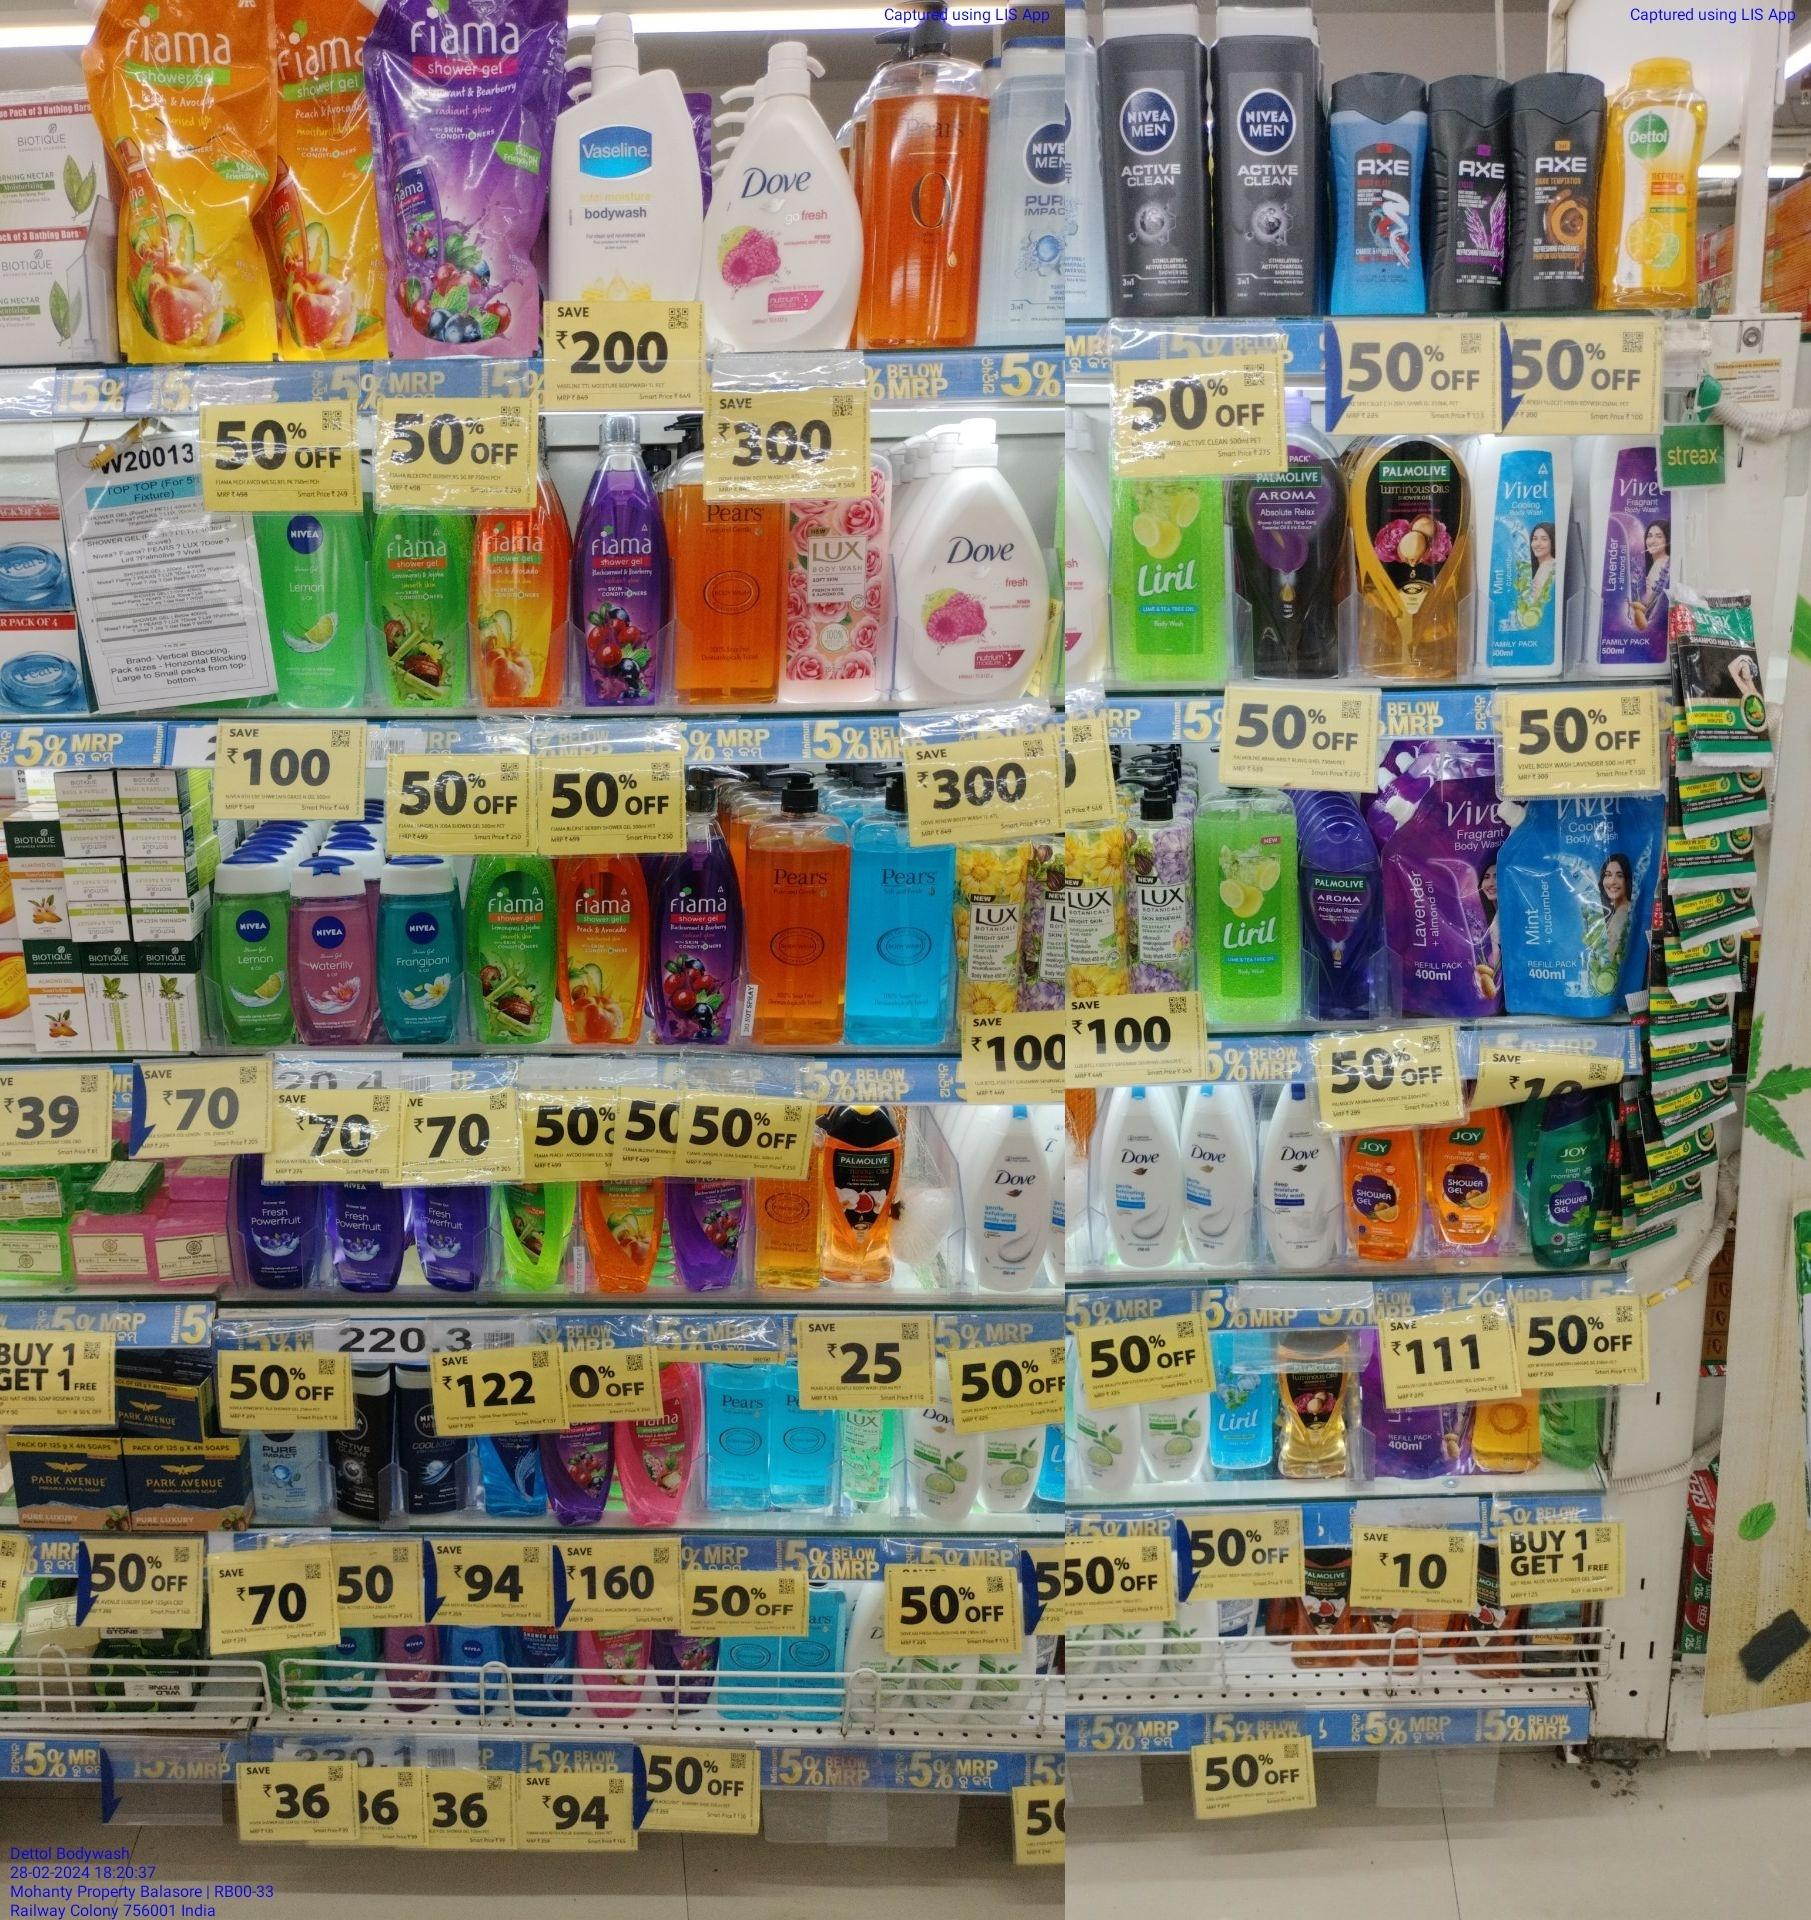Dettol_Bodywash_Refresh: (1605, 51, 1707, 315)
Dove_Deep_Moisture_Body_Wash_250ML: (1265, 1084, 1333, 1278)
Dove_Gentle_Exfoliating_Body_Wash_250ML: (977, 1106, 1048, 1299), (1108, 1081, 1181, 1268), (1185, 1084, 1249, 1266)
Dove_Refreshing_Body_Wash_250ML: (905, 1387, 980, 1525), (1074, 1404, 1139, 1494), (1142, 1397, 1207, 1486)
Joy_Shower_Gel_Mandarin_and_Lemongrass_250ML: (1431, 1101, 1506, 1249), (1348, 1132, 1423, 1263)
Joy_Shower_Gel_Mint_and_Eucalyptus_250ML: (1534, 1091, 1600, 1275)
Nivea_Shower_Gel_Frangipani_and_Oil_250ML: (381, 858, 470, 1054)
Nivea_Shower_Gel_Lemon_and_Oil_250ML: (213, 854, 288, 1050)
Nivea_Shower_Gel_Waterlily_and_Oil_250ML: (291, 854, 376, 1052)
Palmolive_Luminous_Oils_Invigorating_Macadamia_Oil_With_Peony_250ML: (1278, 1329, 1351, 1484)
Palmolive_Luminous_Oils_With_White_Orchid_Shower_Gel_250ML: (824, 1105, 904, 1292)
